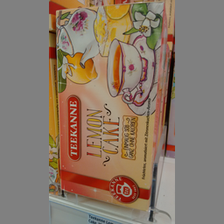tea: (52, 2, 167, 214)
